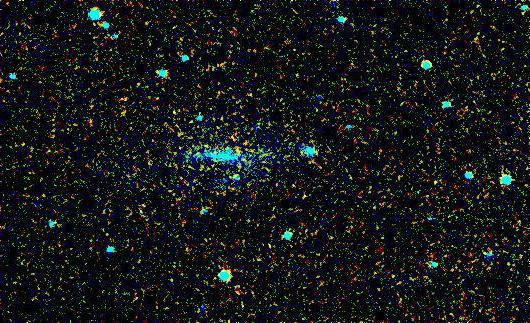star: (134, 8, 164, 38)
